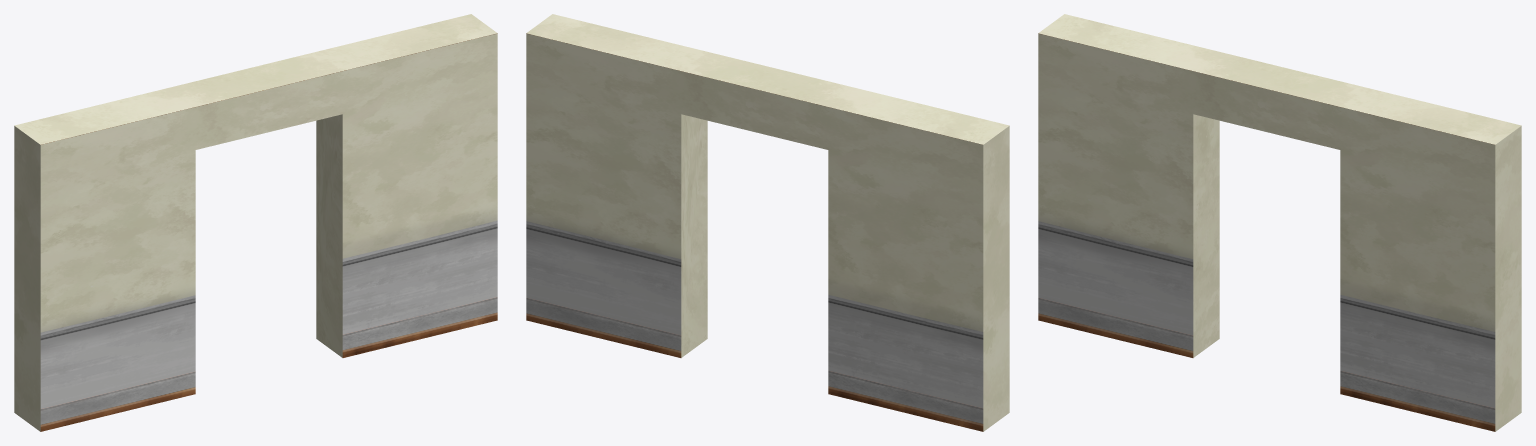
Rendered from wallSD.fbx.
The picture shows the model from 3 angles, left to right: view 1: azimuth 30°, elevation 25°; view 2: azimuth 150°, elevation 25°; view 3: azimuth 330°, elevation 25°; orthographic projection.
Visible parts, largest first — view 1: pCube1; view 2: pCube1; view 3: pCube1.
Part boxes in pixels (box(x1,y1,x2,y2)): pCube1: box(14, 14, 497, 431); pCube1: box(526, 14, 1009, 431); pCube1: box(1038, 14, 1521, 431).
Bounding box in the file's own units: 5 × 3 × 0.5.
